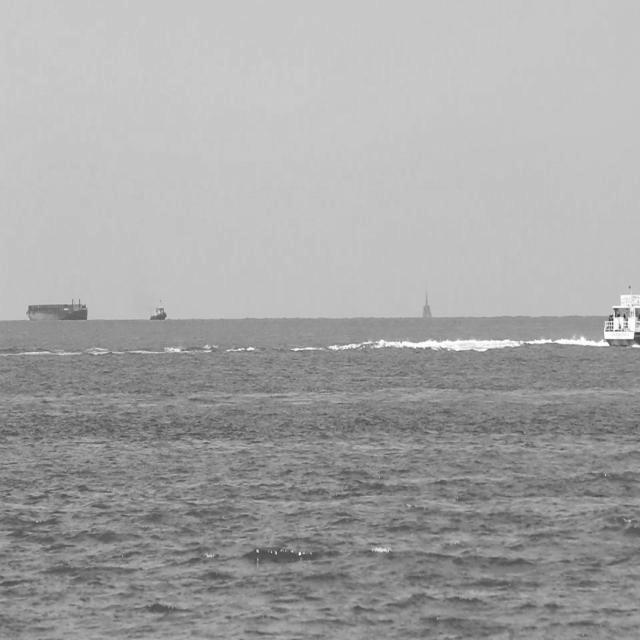ship: (600, 234, 640, 352), (22, 294, 88, 324), (146, 294, 168, 323)
